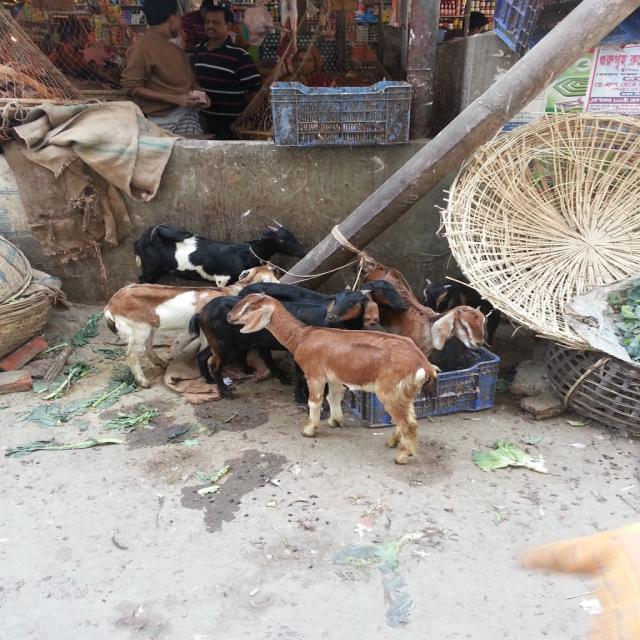Goat: (225, 292, 442, 465), (102, 264, 281, 388), (358, 264, 486, 360), (132, 219, 308, 288), (421, 275, 502, 349)
